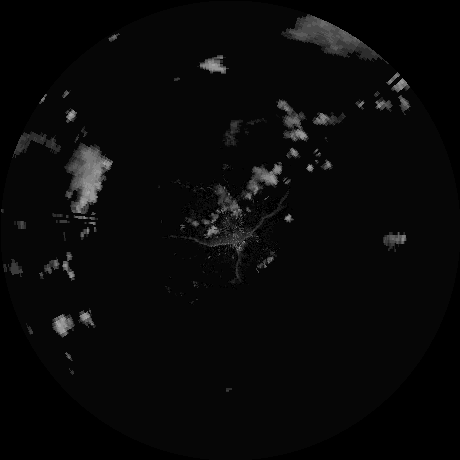frontgust: (176, 199, 283, 248)
